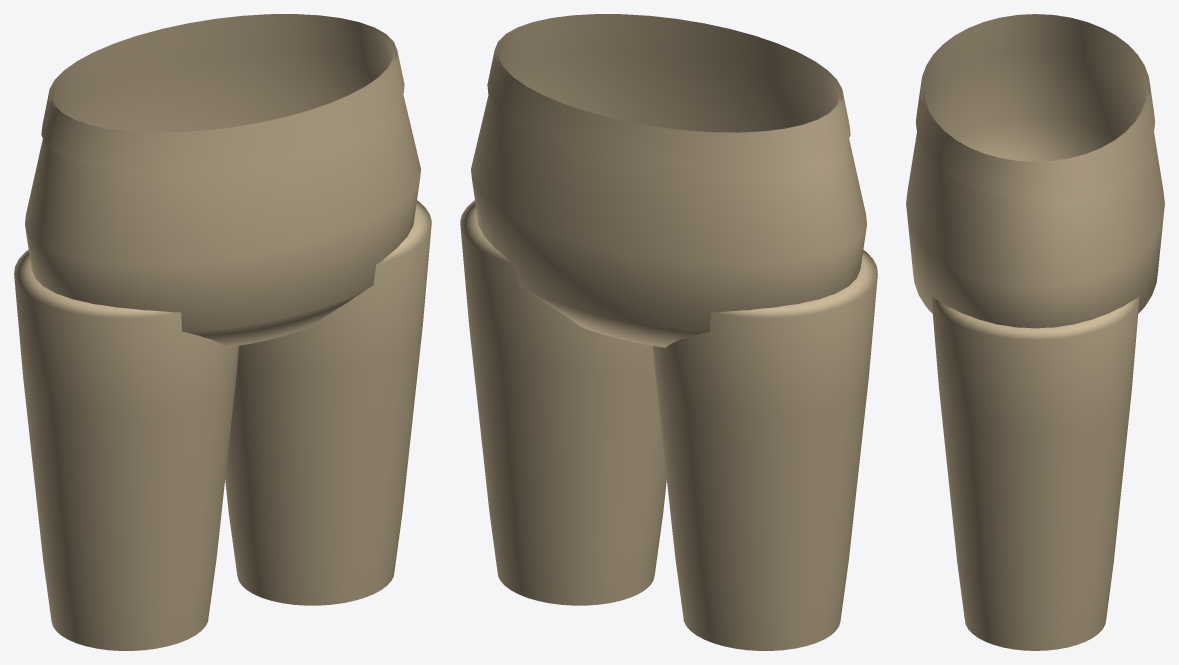
Rendered from sand_shorts.glb.
3 views of the same model, side by side, from view 1: azimuth 30°, elevation 25°; view 2: azimuth 150°, elevation 25°; view 3: azimuth 270°, elevation 25° (orthographic). The views are drawn at different scales.
Visible parts, largest first — view 1: Shorts, Waistband; view 2: Shorts, Waistband; view 3: Shorts, Waistband.
Part boxes in pixels (left/top/right/bottom): Shorts: left=14, top=15, right=431, bottom=650; Waistband: left=41, top=14, right=404, bottom=172; Shorts: left=460, top=15, right=877, bottom=650; Waistband: left=487, top=14, right=850, bottom=172; Shorts: left=906, top=15, right=1164, bottom=650; Waistband: left=916, top=14, right=1154, bottom=199.
Bounding box in the file's own units: 0.398 × 0.51 × 0.245.
